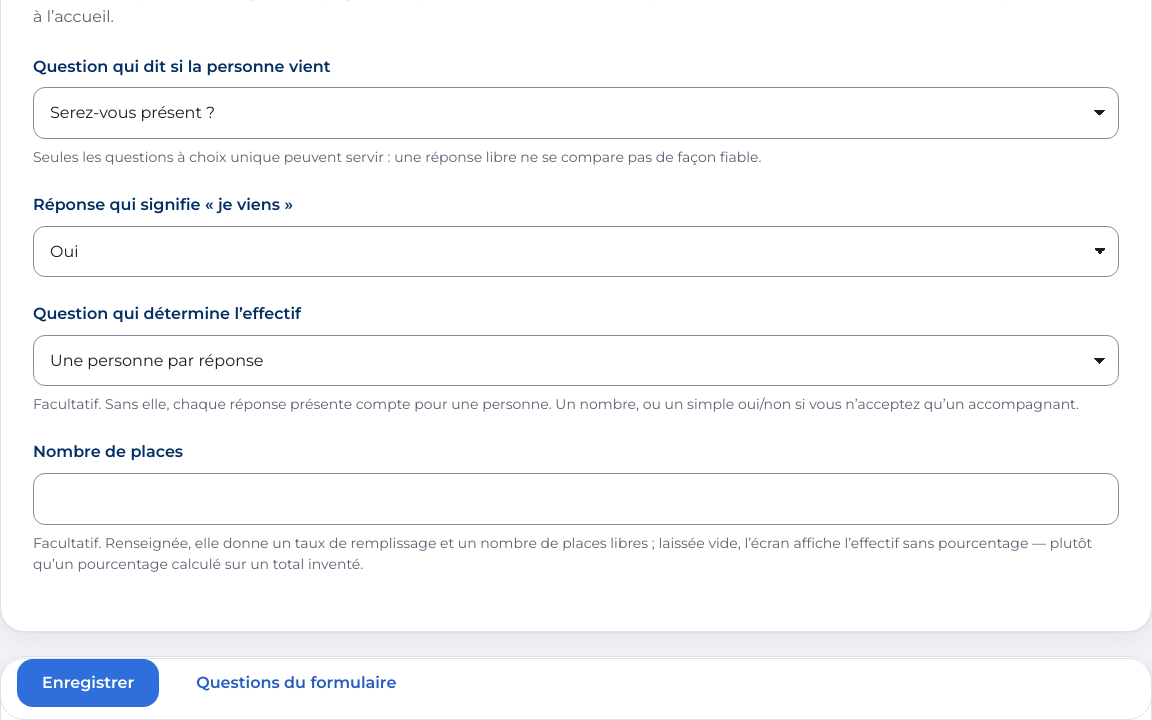
Test case: comptage des présents › dit ce que coûte une question d’effectif FACULTATIVE
(page scrolled)
Expected: the text "Cette question est" is not shown
Select "Combien vous accompagnent ?" in the dropdown labelled "Question qui détermine l’effectif": (576, 361) left=33, top=335, right=1119, bottom=386
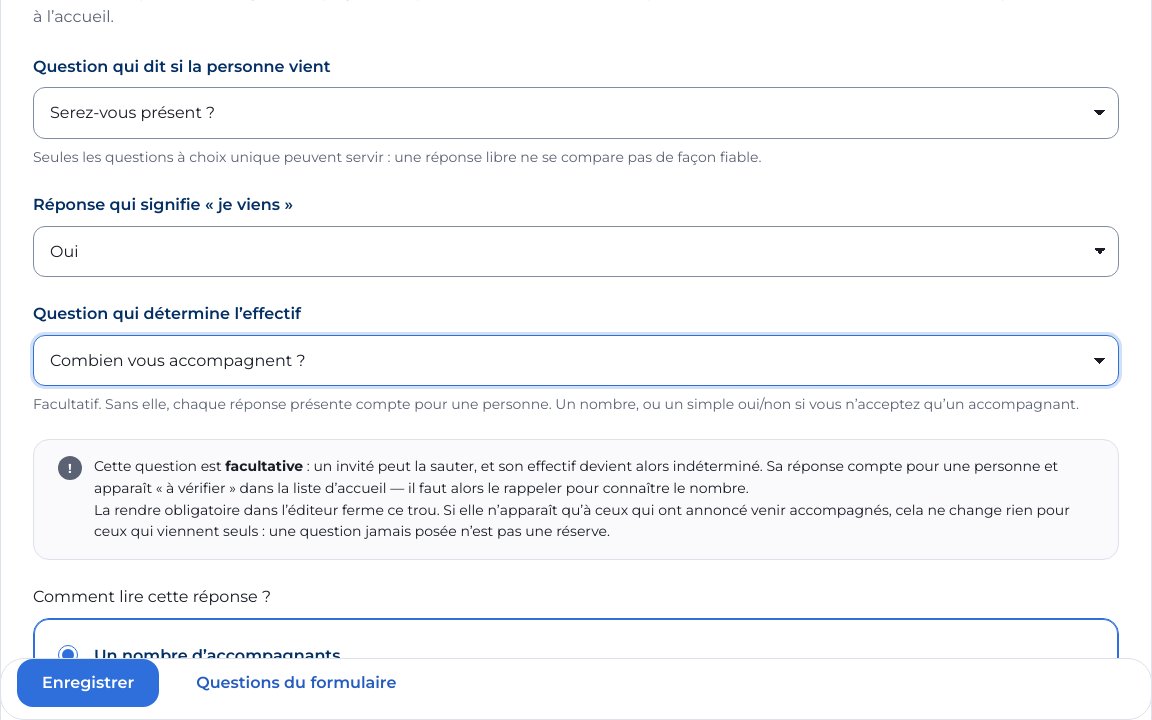
Now the text "à vérifier" is shown, box left=94, top=457, right=1058, bottom=497
